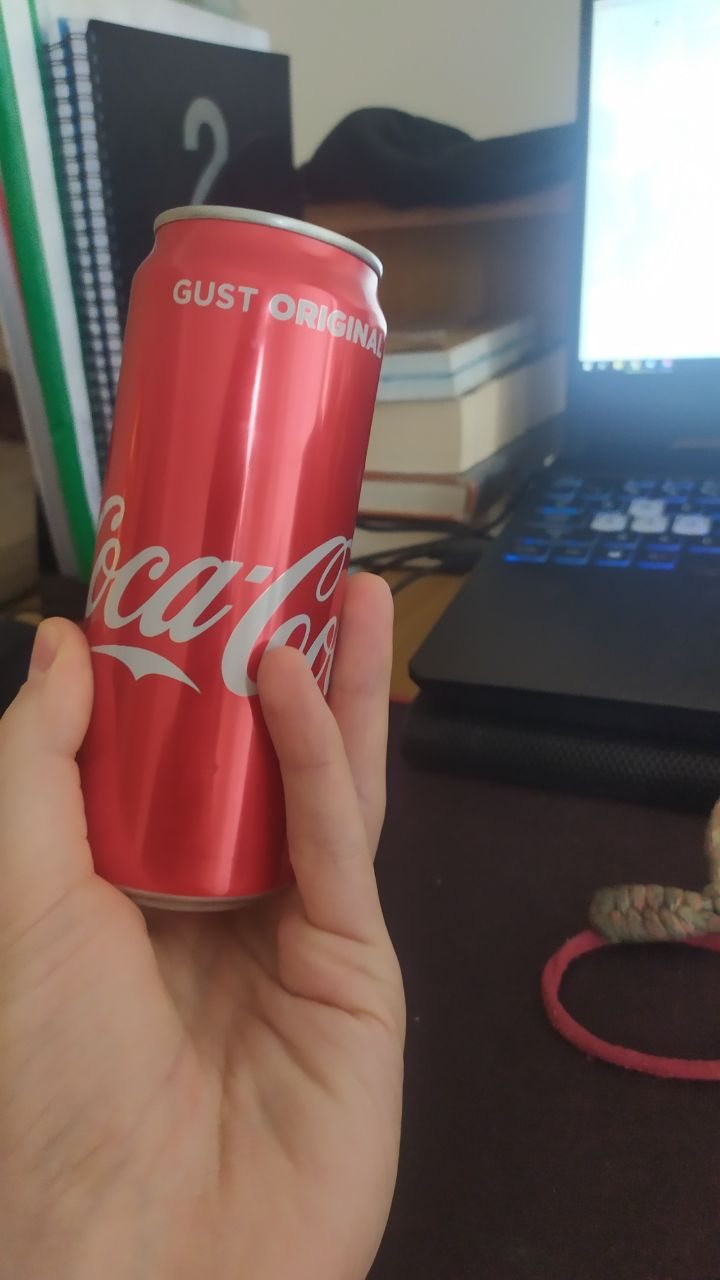Can: (64, 191, 392, 931)
